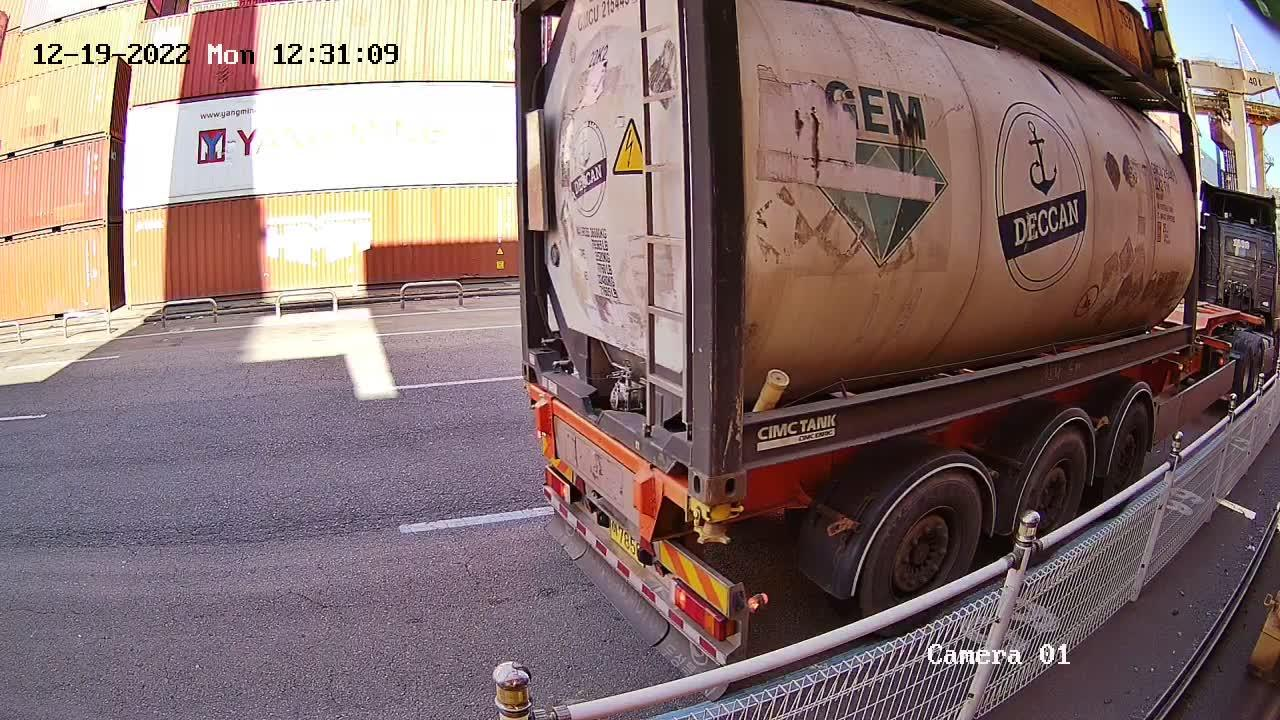Chassis: (527, 388, 688, 542)
Cone: (682, 498, 740, 547)
Hole_L: (710, 414, 789, 503), (520, 340, 554, 395)
Hole_R: (654, 407, 709, 504)
Tire: (857, 473, 981, 609), (1019, 435, 1090, 533), (1107, 402, 1150, 490)
